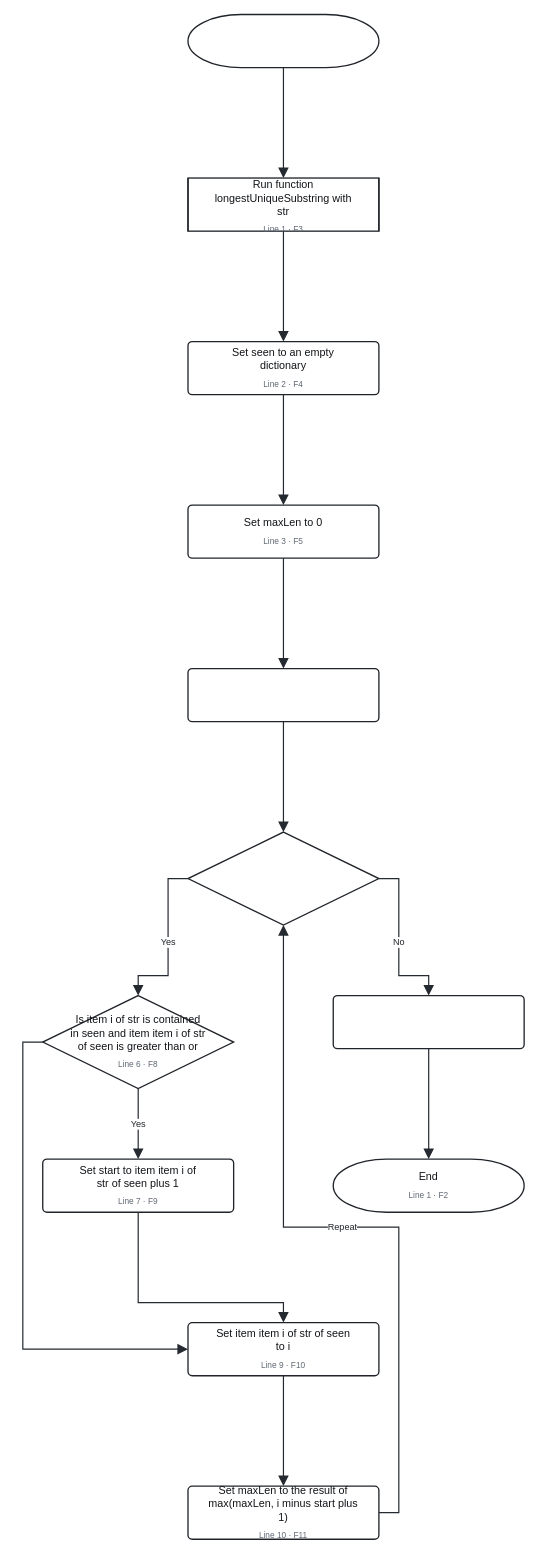
The diagram is 540 pixels wide and 1556 high, and some of its shapes have lost their labels. Each missing label, with the centre of its shape:
"For i from 0 to the length of str minus 1 plus 1 Line 5 · F7" goes at point 283,878.
"Return maxLen Line 12 · F12" goes at point 428,1022.
"Set start to 0 Line 4 · F6" goes at point 283,694.
"Start Line 1 · F1" goes at point 283,40.
